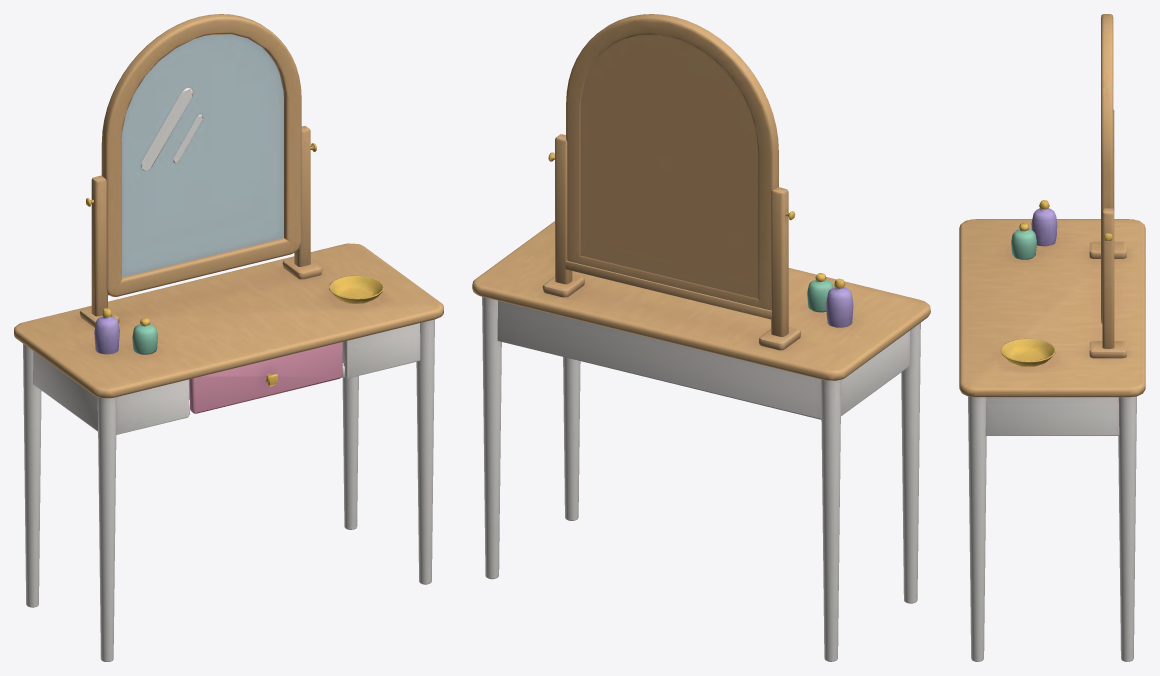
File: vanity-table.glb
3 views of the same model, side by side, from view 1: azimuth 30°, elevation 25°; view 2: azimuth 150°, elevation 25°; view 3: azimuth 270°, elevation 25° (orthographic). The views are drawn at different scales.
Visible parts, largest first — view 1: vanity-table_body, vanity-table_drawer; view 2: vanity-table_body; view 3: vanity-table_body.
Boxes of the visible parts, left/top/right/bottom form: vanity-table_body: left=14, top=14, right=443, bottom=661; vanity-table_drawer: left=189, top=342, right=342, bottom=413; vanity-table_body: left=472, top=14, right=930, bottom=661; vanity-table_body: left=959, top=14, right=1145, bottom=661.
Size of the model in its own units: 1 by 1.52 by 0.46.
2 materials, 2 textured.
